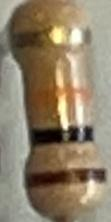Black: (30, 122, 96, 145)
Brown: (24, 165, 108, 190)
Orange: (21, 83, 97, 115)
Side-Silver: (9, 25, 93, 52)
